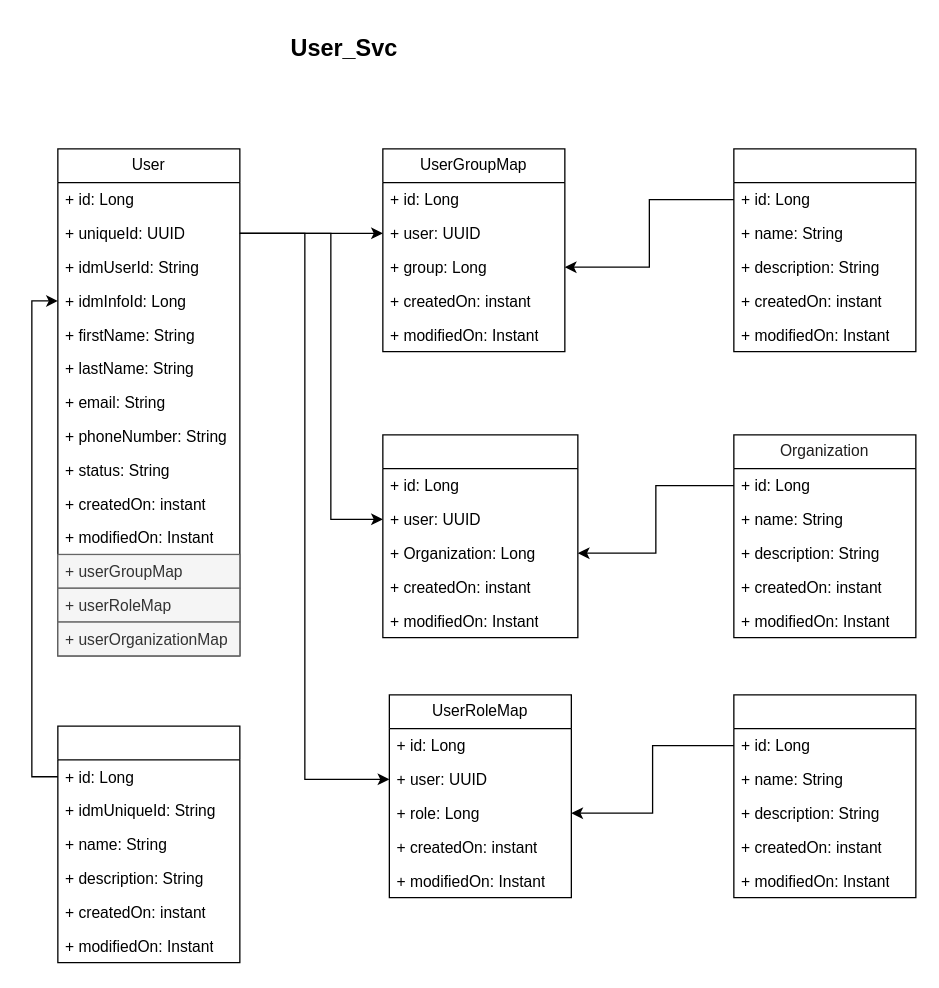
This 939x988 diagram has some shape labels left out. Each missing label, with the box of its shape:
Group: (733, 148, 916, 352)
IdmInfo: (57, 725, 240, 963)
Role: (733, 694, 916, 898)
UserOrganizationMap: (382, 434, 578, 638)
